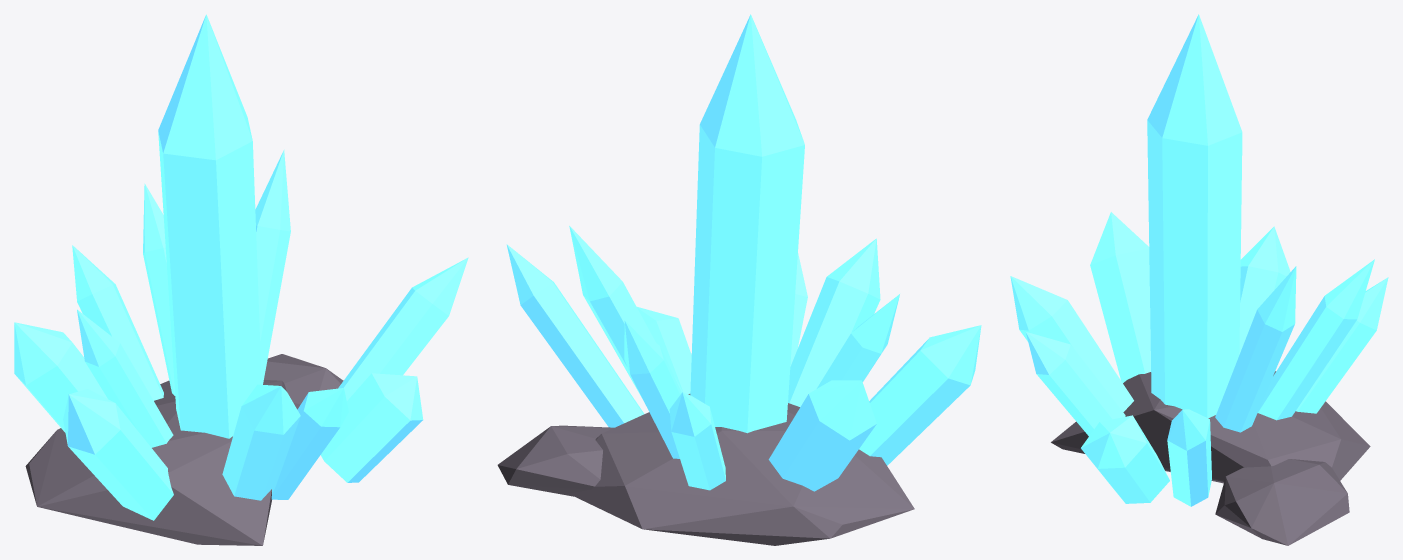
File: Crystal_ClusterLarge_Blue.glb
3 views of the same model, side by side, from view 1: azimuth 30°, elevation 25°; view 2: azimuth 150°, elevation 25°; view 3: azimuth 270°, elevation 25° (orthographic). The views are drawn at different scales.
Visible parts, largest first — view 1: Crystal_ClusterLarge_blue; view 2: Crystal_ClusterLarge_blue; view 3: Crystal_ClusterLarge_blue.
Part boxes in pixels (left/top/right/bottom): Crystal_ClusterLarge_blue: left=14, top=14, right=468, bottom=545; Crystal_ClusterLarge_blue: left=497, top=14, right=981, bottom=545; Crystal_ClusterLarge_blue: left=1010, top=14, right=1388, bottom=545.
Bounding box in the file's own units: 1.33 × 1.37 × 1.06.
